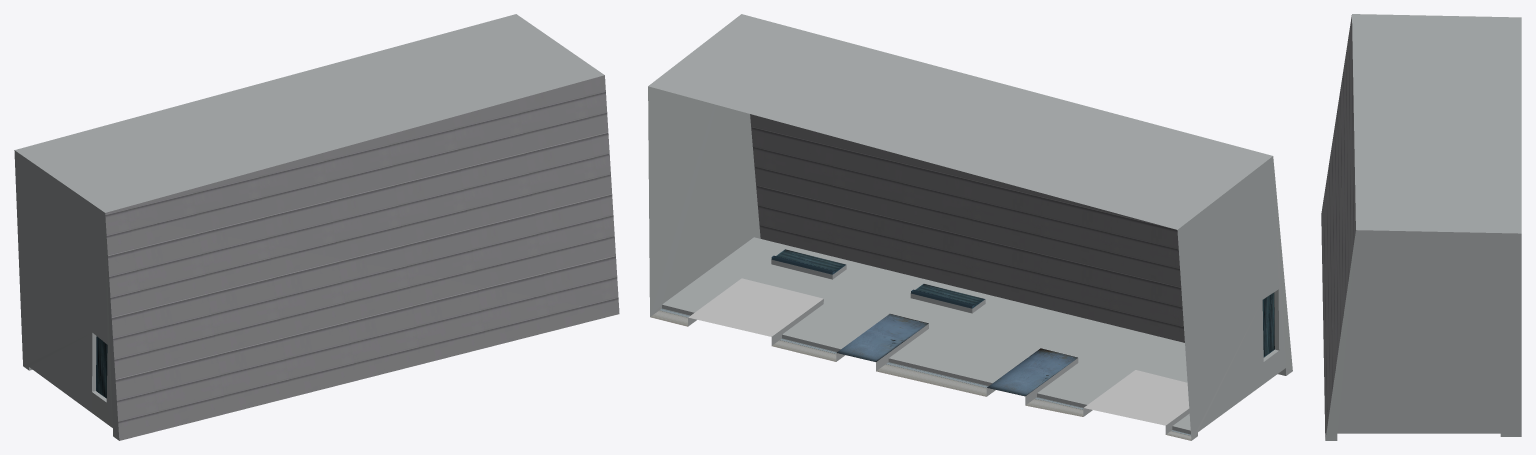
The model's file is Myyrivahe_29e.obj.
3 renders of one model, left to right at view 1: azimuth 30°, elevation 25°; view 2: azimuth 150°, elevation 25°; view 3: azimuth 270°, elevation 25°, orthographic. The views are drawn at different scales.
Parts seen in each view (by area): view 1: Myyrivahe_29e; view 2: Myyrivahe_29e; view 3: Myyrivahe_29e.
Boxes of the visible parts, bbox=[...] form: Myyrivahe_29e: bbox=[14, 14, 619, 440]; Myyrivahe_29e: bbox=[648, 14, 1292, 440]; Myyrivahe_29e: bbox=[1321, 14, 1521, 440].
Bounding box in the file's own units: 13.77 × 5.98 × 5.07.
